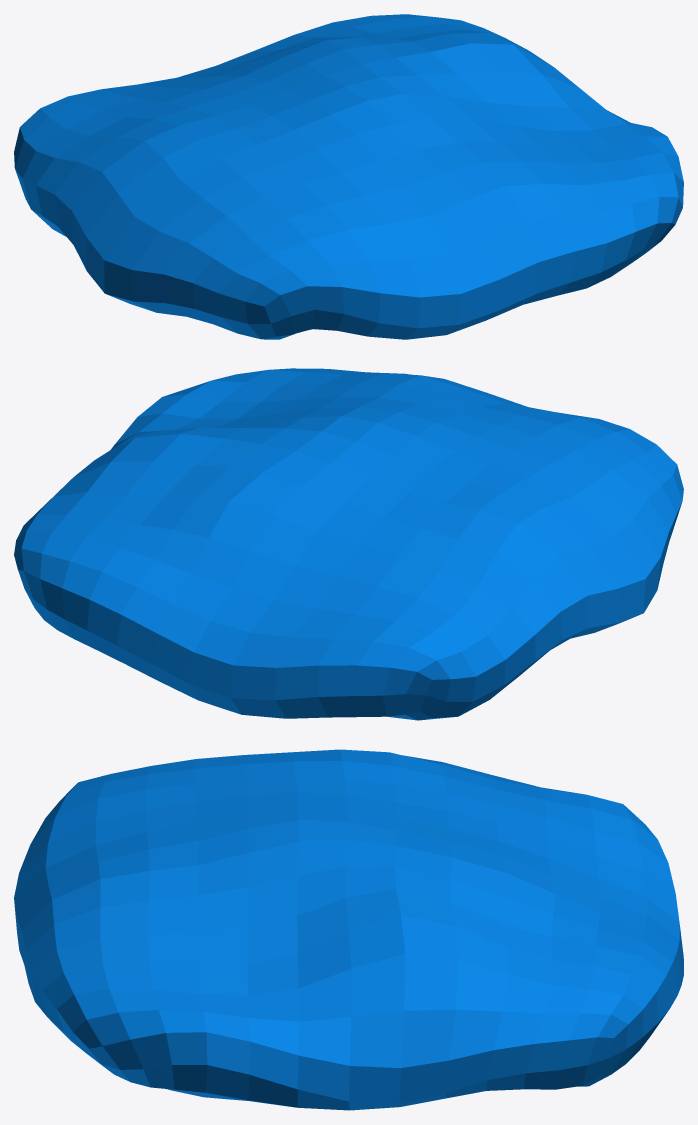
File: 16-CrystalBase.fbx
The picture shows the model from 3 angles, top to bottom: view 1: azimuth 30°, elevation 25°; view 2: azimuth 150°, elevation 25°; view 3: azimuth 270°, elevation 25°; orthographic projection. The views are drawn at different scales.
Parts seen in each view (by area): view 1: CrystalBase; view 2: CrystalBase; view 3: CrystalBase.
Boxes of the visible parts, x1,y1,x2,y2 form: CrystalBase: [14, 14, 683, 339]; CrystalBase: [14, 368, 683, 720]; CrystalBase: [14, 749, 683, 1110].
Size of the model in its own units: 192 by 56.83 by 191.
